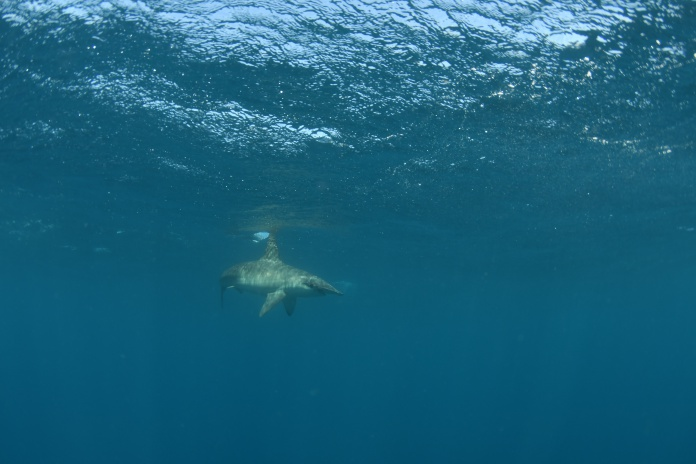Hammer: (201, 234, 348, 335)
